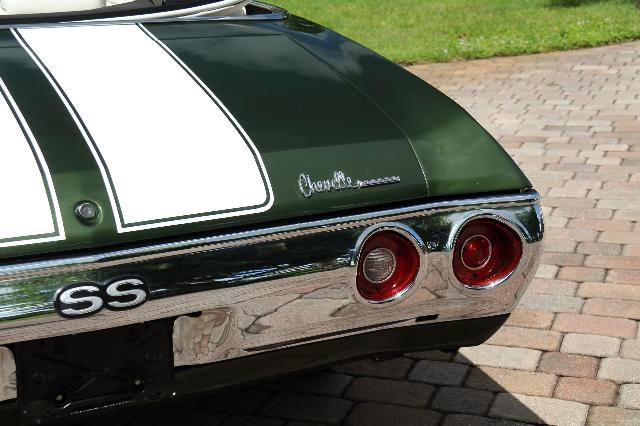chevelle-1972: (0, 0, 549, 426)
